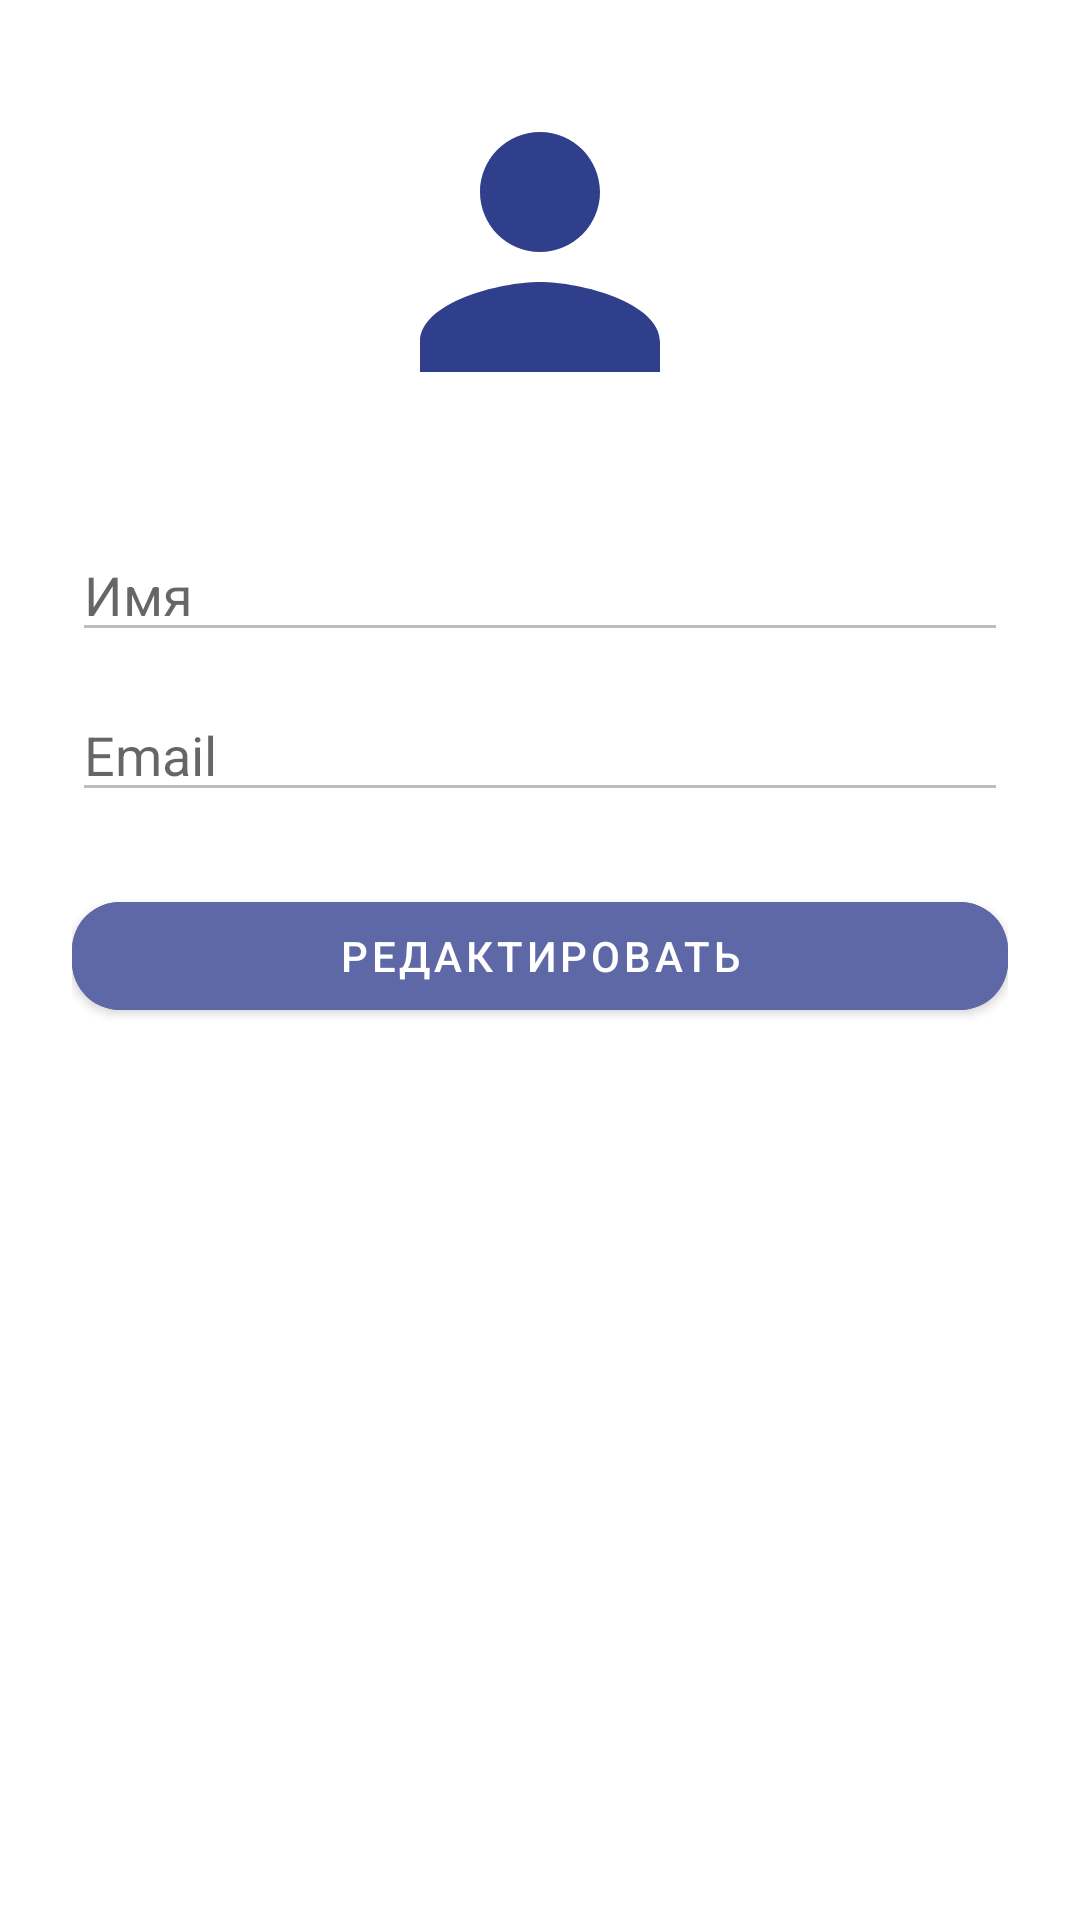

Locate icon controls on the screen. Image size 1080px×1920px, boxes as (x1, y1, x2, y2).
Profile Icon: (420, 132, 660, 372)
